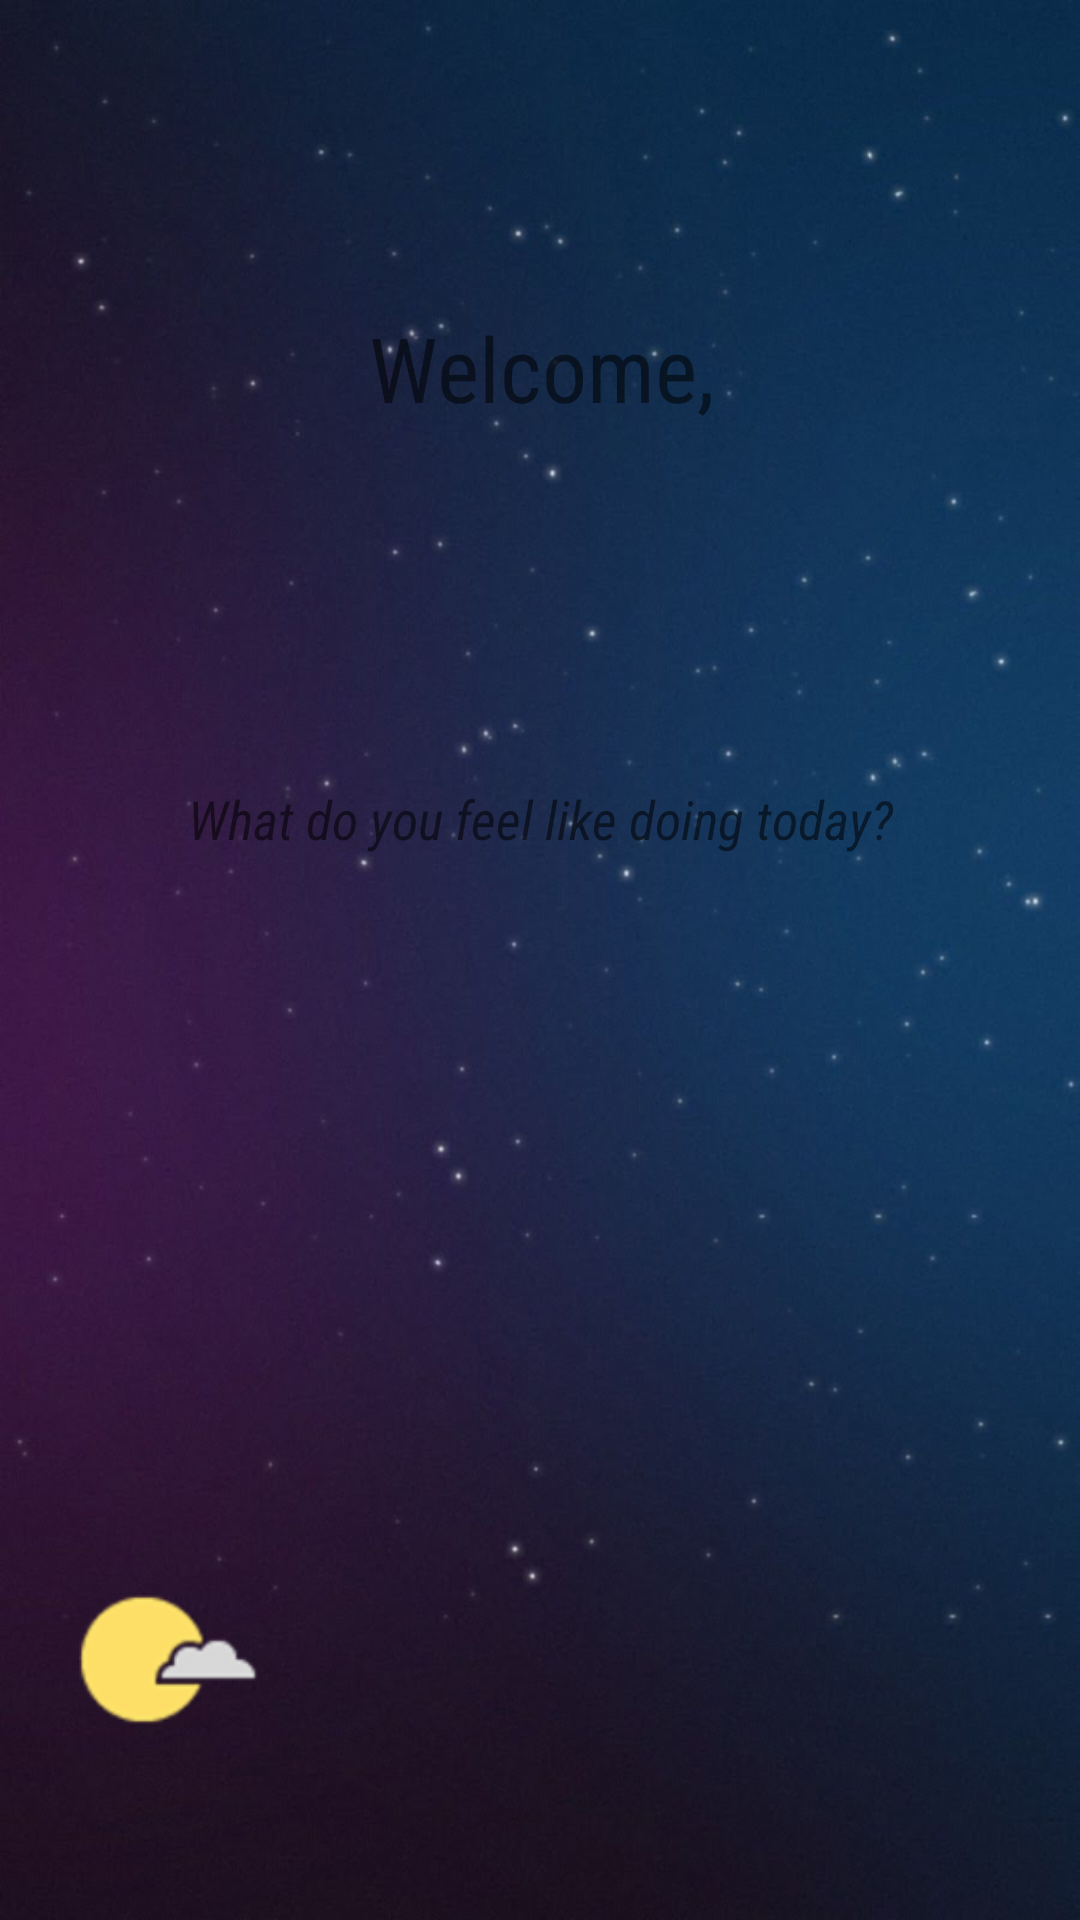

Icons on this 1080px×1920px Android screen, each with the point to tap as point (x, y):
Weather: point (168, 1639)
